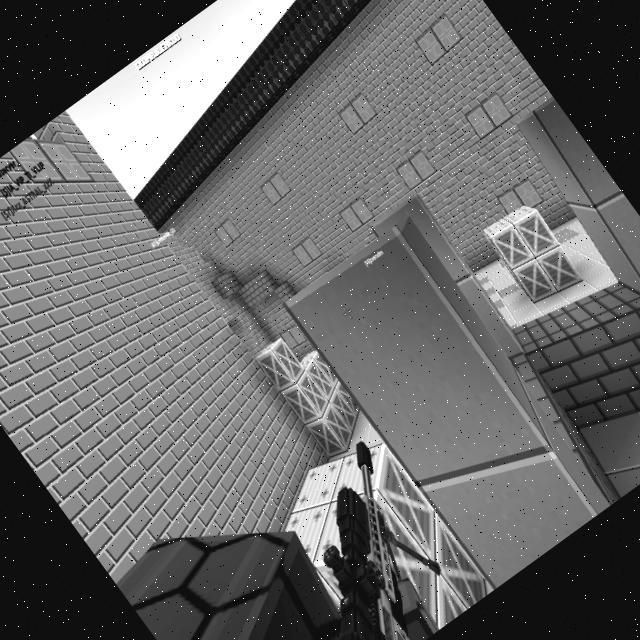Head: (108, 470, 391, 640)
